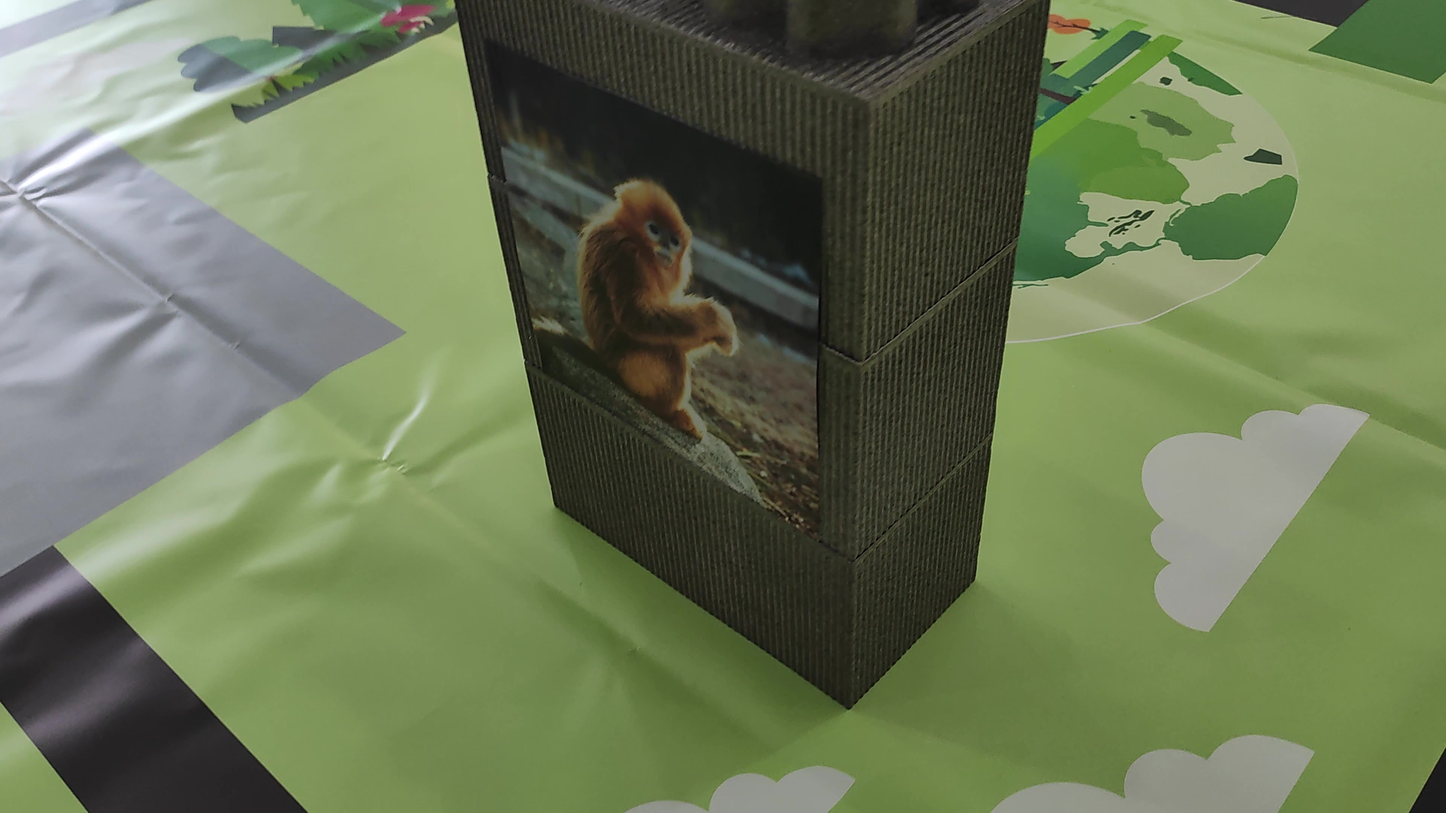monkey: (543, 166, 767, 457)
